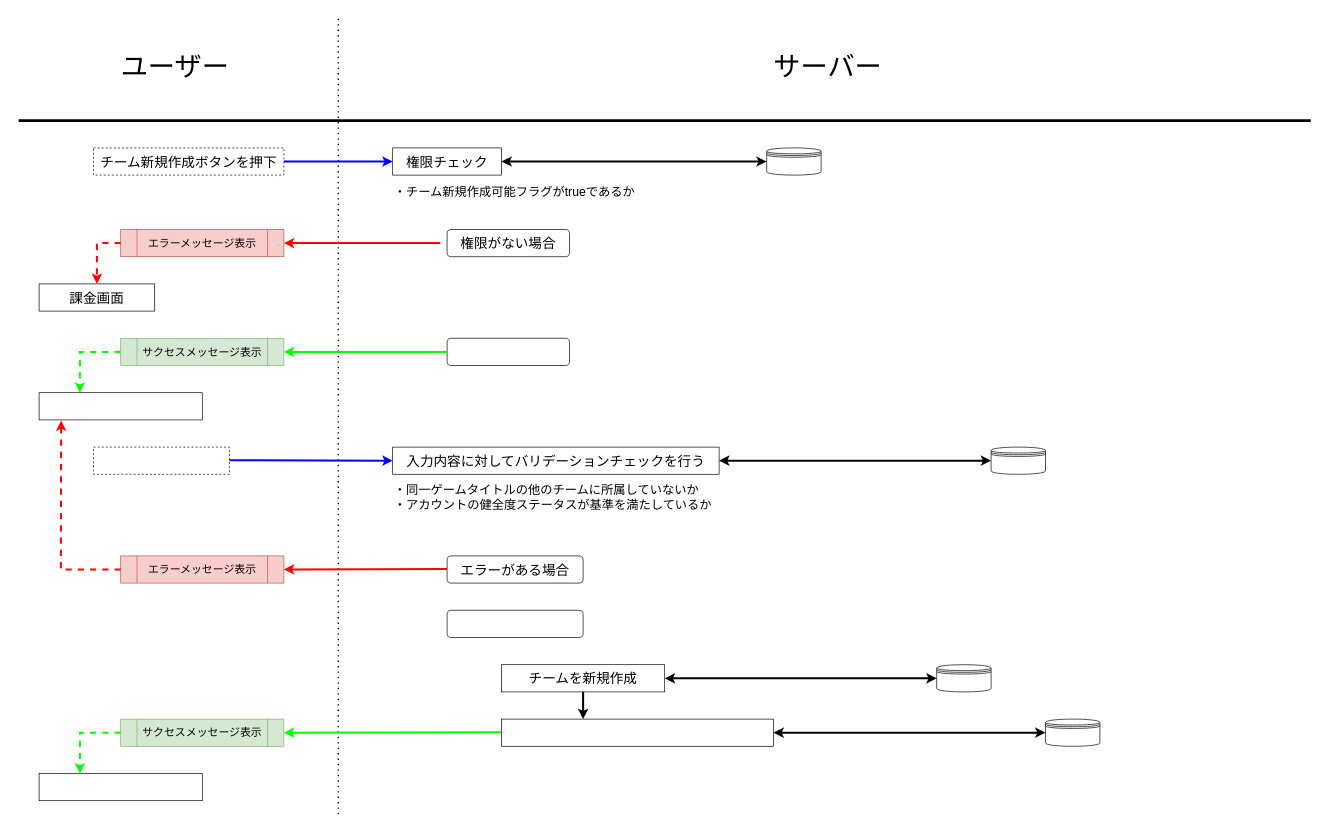
This 1329x827 diagram has some shape labels left out. Here are the shapes that lost their labels. From the top down, the centre of each, then its label:
the point at 508,352: 権限がある場合
the point at 120,406: チーム新規作成画面
the point at 161,460: 登録ボタンを押下
the point at 514,624: エラーがない場合
the point at 637,732: 作成したチームにユーザーIDを紐付け
the point at 120,787: チーム詳細画面
